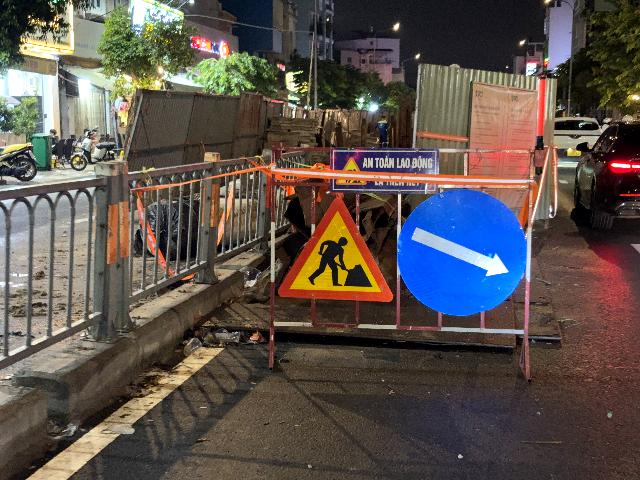cong-truong-dang-thi-cong: (278, 196, 394, 302)
huong-phai-di-vong-chuong-ngai-vat: (398, 189, 526, 316)
